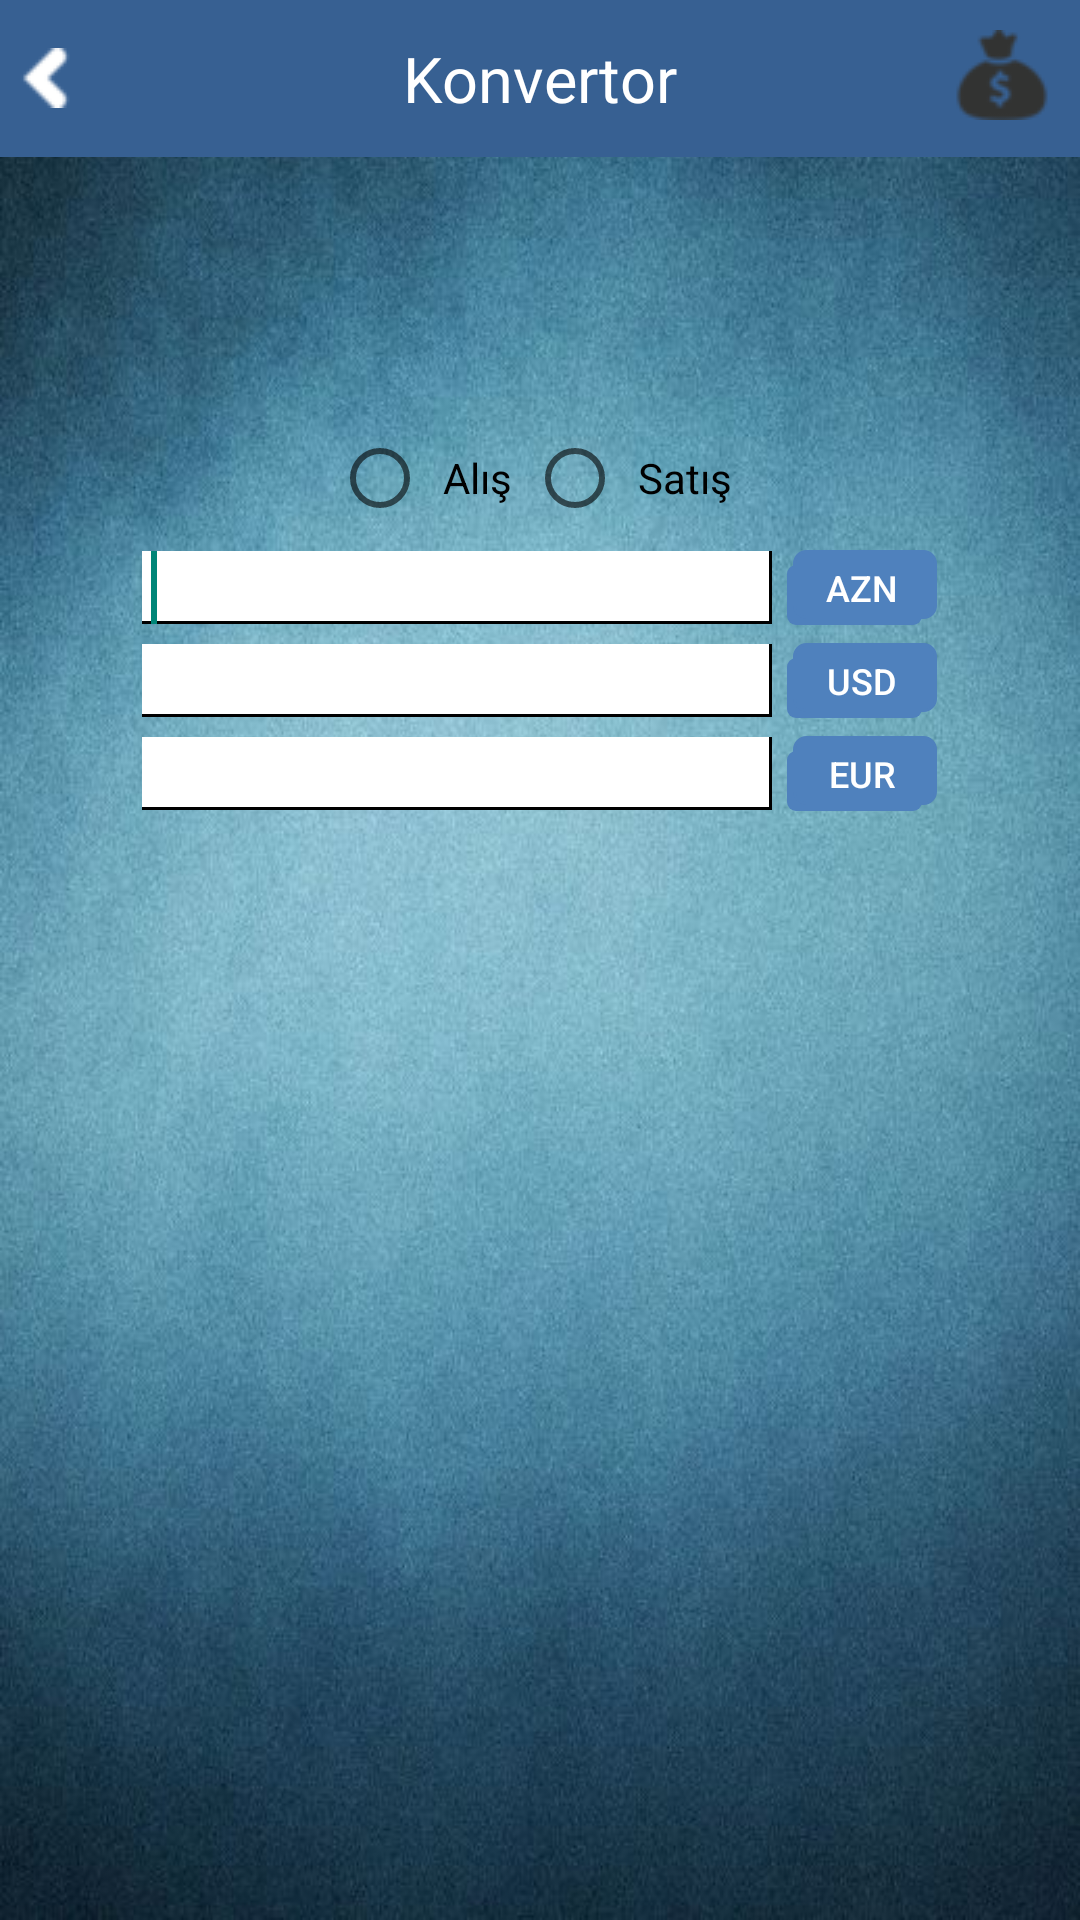

Screen size 1080w x 1920h. Icon name, then its box in pixels as (x1, y1, x2, y2):
arrow left: (23, 48, 68, 108)
valyuta: (957, 30, 1047, 120)
